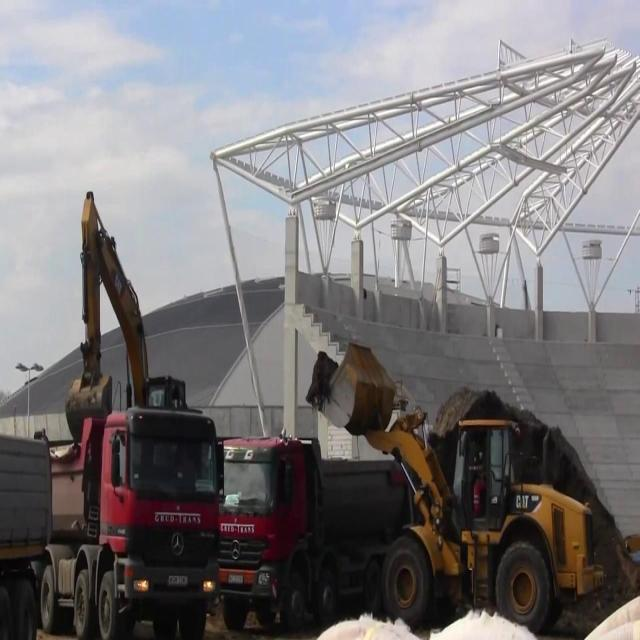buldozerpayloadergrader: (306, 342, 606, 630)
dump_truck: (33, 405, 219, 639), (214, 428, 408, 626), (0, 431, 52, 637)
excavator: (61, 190, 191, 462)
